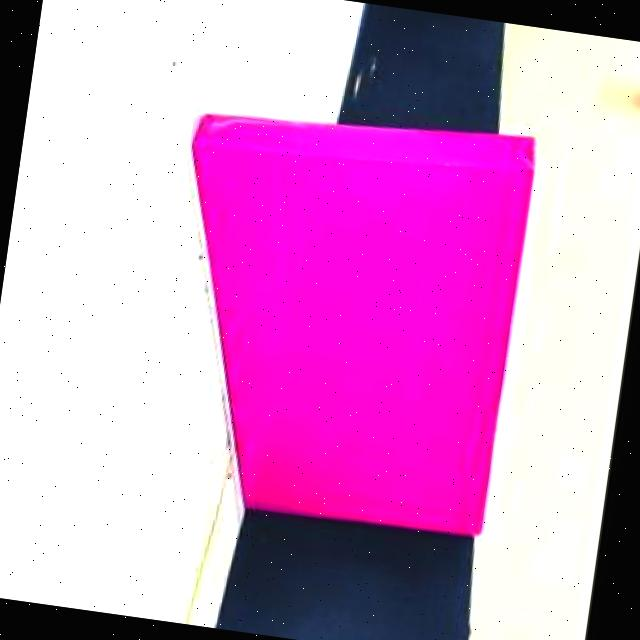xparking: (206, 119, 524, 534)
